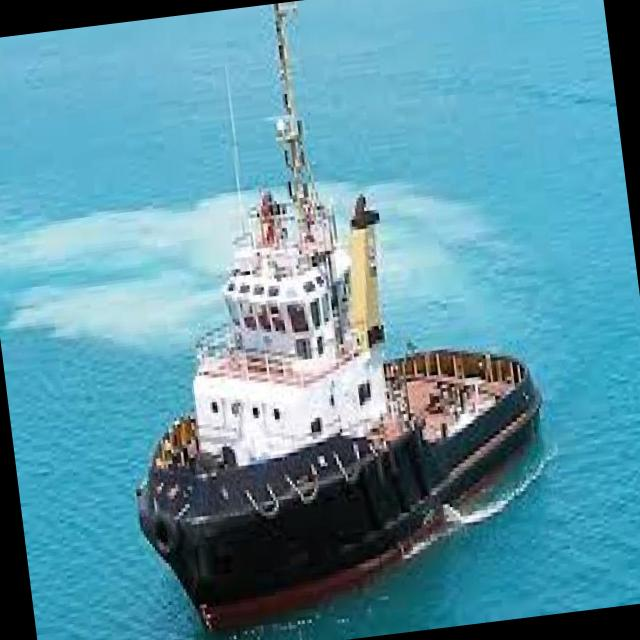Tug: (137, 1, 538, 628)
